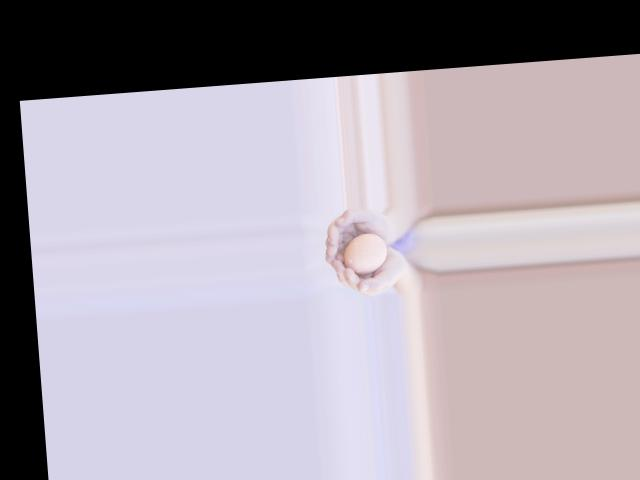egg: (342, 231, 389, 274)
